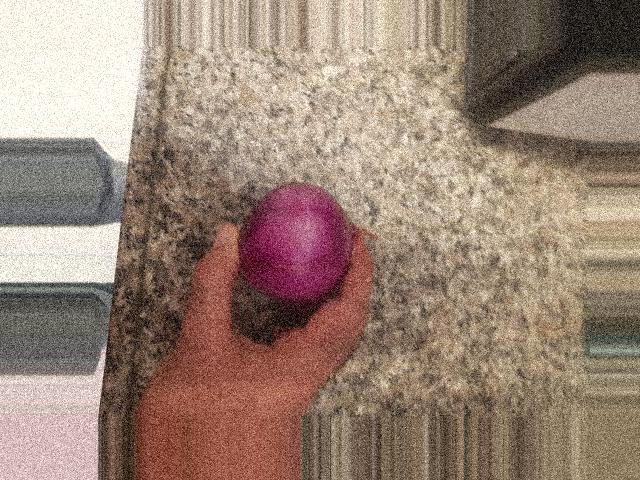onion: (232, 188, 357, 297)
